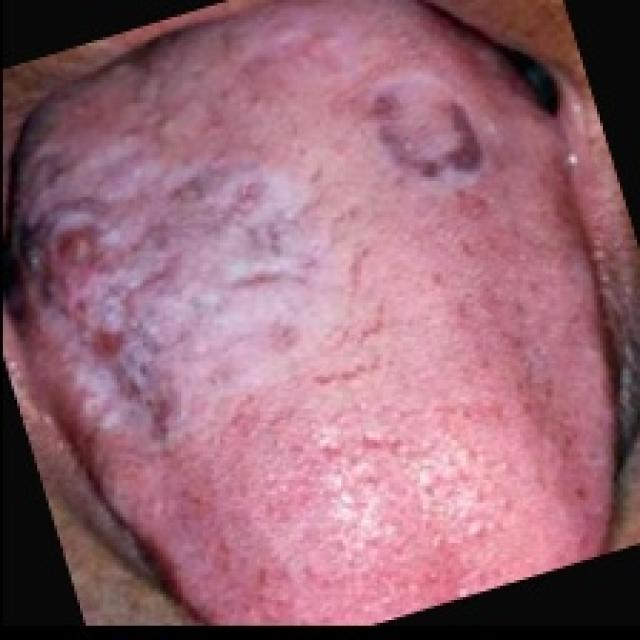leukoplakia-like-detection: (13, 129, 368, 472)
processing_area: (2, 4, 637, 630)
